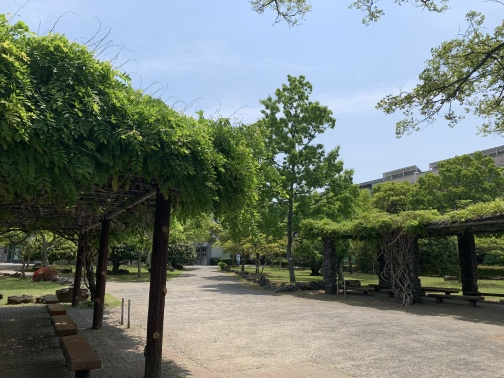College Of Education: (378, 141, 504, 183)
